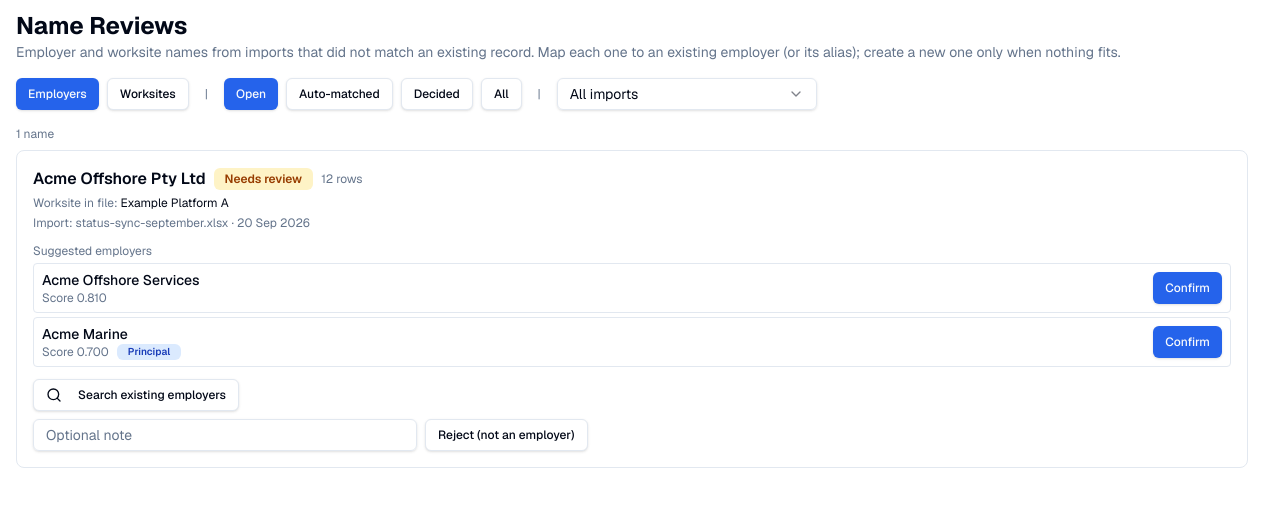
Test: Name Reviews page › a 409 on a row decision is shown verbatim on the row
What coordinates should you click on to do the following:
click the button "Confirm" in the row of "Acme Offshore Services"
I would click on:
 (1188, 288)
Its box is [1153,272,1222,304].
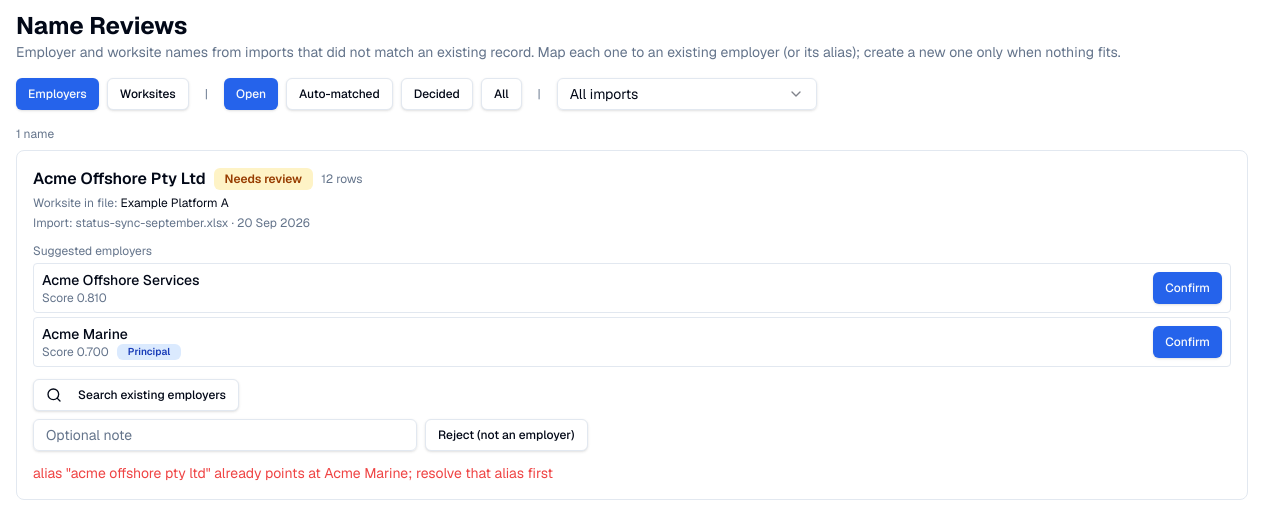
Result: the text "alias \"acme offshore pty ltd\" already points at Acme Marine; resolve that alias first" is shown at [33,464,553,482]
